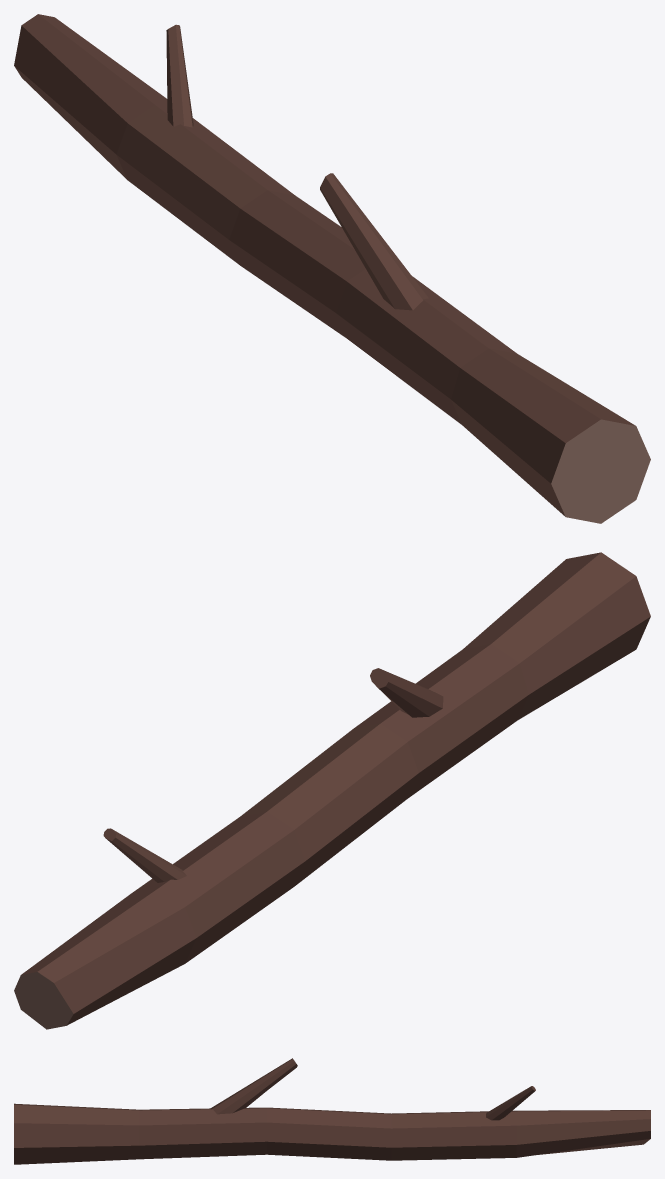
The model's file is Broken tree_1.fbx.
3 renders of one model, top to bottom at view 1: azimuth 30°, elevation 25°; view 2: azimuth 150°, elevation 25°; view 3: azimuth 270°, elevation 25°, orthographic. The views are drawn at different scales.
Parts seen in each view (by area): view 1: Broken tree_1; view 2: Broken tree_1; view 3: Broken tree_1.
Part boxes in pixels (left/top/right/bottom): Broken tree_1: left=14, top=14, right=650, bottom=523; Broken tree_1: left=14, top=552, right=650, bottom=1029; Broken tree_1: left=14, top=1058, right=650, bottom=1164.
Size of the model in its own units: 0.517 by 0.866 by 5.07.
